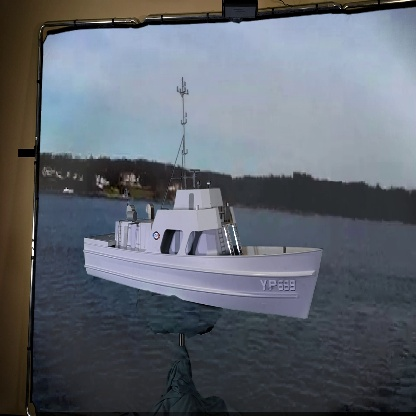YP689: (81, 72, 326, 321)
